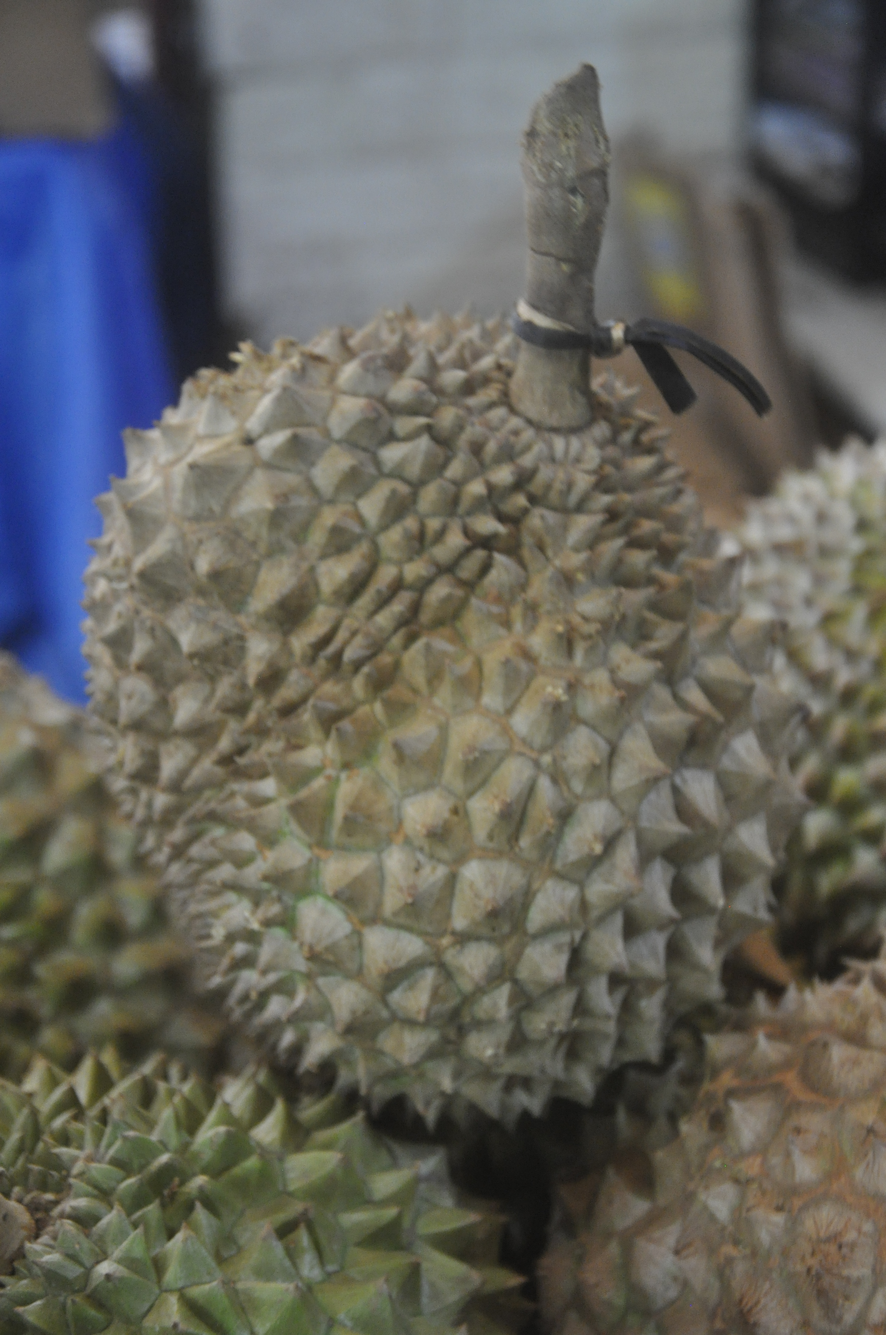mature: (84, 78, 837, 1173)
